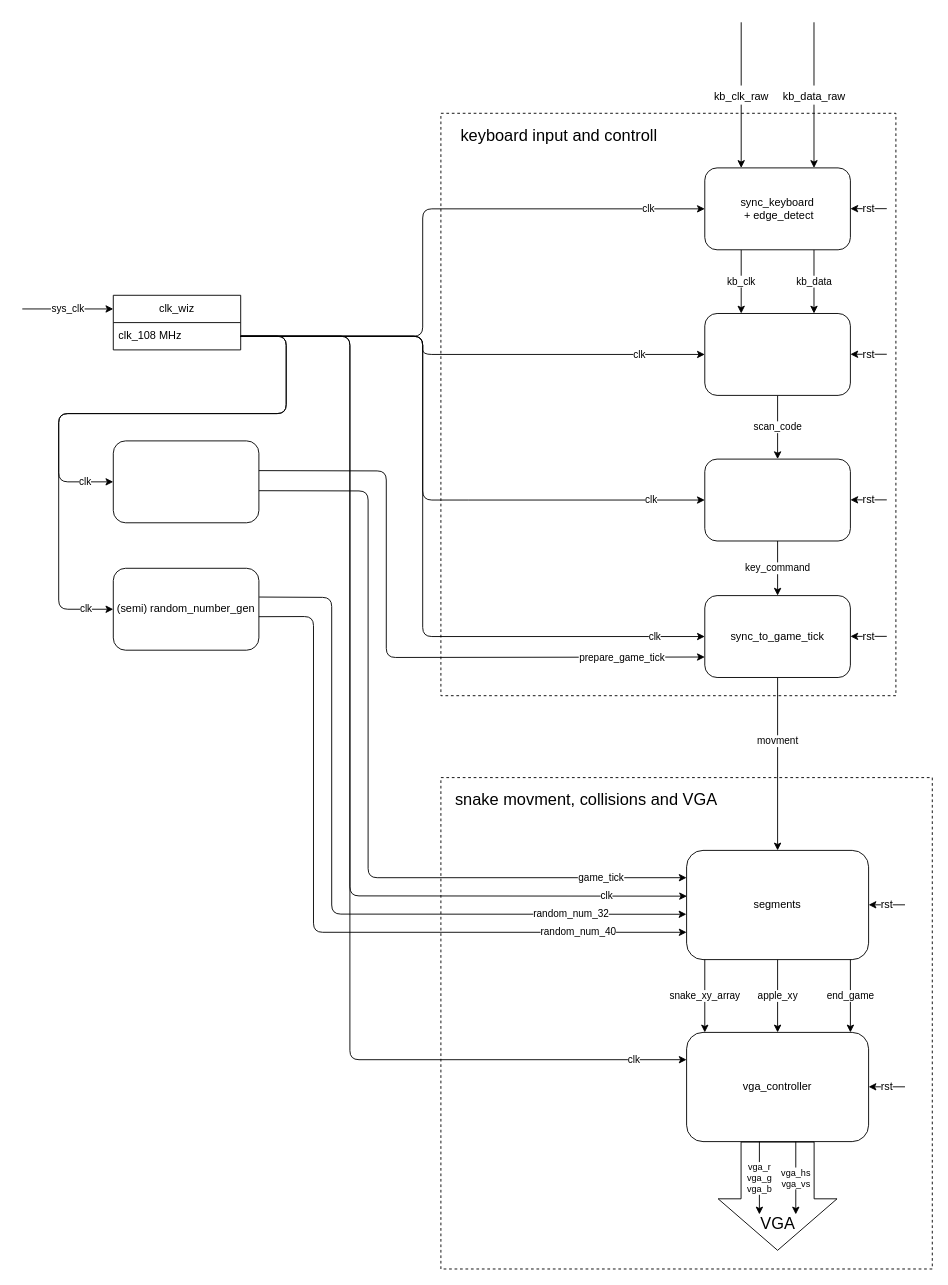
The diagram is 948 pixels wide and 1285 high, and some of its shapes have lost their labels. Here are the shapes that lost their labels. From the top down, the centre of each, then its label:
At point 777,354: "convert_scancode".
At point 185,481: "game_tick_gen".
At point 777,499: "keyboard_crtl".
